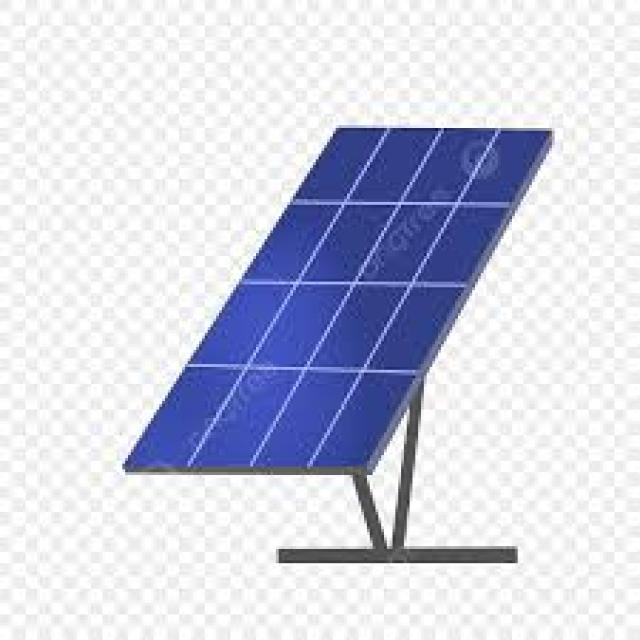clean-solar-panel: (126, 126, 551, 469)
